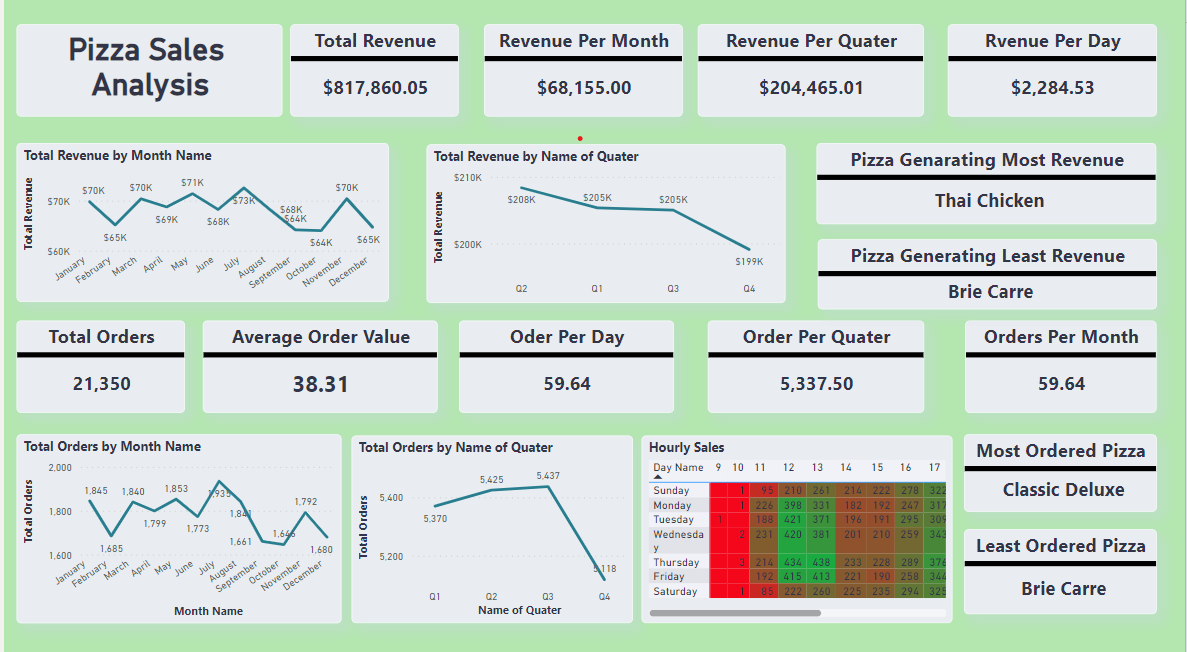

The dashboard page shown, as its layout file describes it:
{"tool":"powerbi","page":{"name":"Dashboard","canvas":[1280,720],"ordinal":0},"visuals":[{"type":"card","title":"Total Revenue","fields":{"Values":["order_details.Total Revenue"]},"box":[324.9,28.4,182.7,100.2],"z":0},{"type":"card","title":"Revenue Per Month ","fields":{"Values":["order_details.Revenue per month"]},"box":[519.8,28.4,215.2,100.2],"z":1000},{"type":"card","title":"Average Order Value ","fields":{"Values":["order_details.Average Order Value"]},"box":[224.7,349.2,254.5,100.2],"z":2000},{"type":"card","title":"Total Orders","fields":{"Values":["orders.Total Orders"]},"box":[13.5,349.2,182.7,100.2],"z":3000},{"type":"card","title":"Revenue Per Quater ","fields":{"Values":["order_details.Revenue Per Quater"]},"box":[762.1,28.4,245,100.2],"z":4000},{"type":"card","title":"Rvenue Per Day","fields":{"Values":["order_details.Revenue per day"]},"box":[1022,28.4,226.1,100.2],"z":5000},{"type":"card","title":"Oder Per Day","fields":{"Values":["order_details.order per day"]},"box":[502.2,349.2,232.8,100.2],"z":6000},{"type":"card","title":"Order Per Quater","fields":{"Values":["order_details.orders per quater"]},"box":[762.1,349.2,234.2,100.2],"z":7000},{"type":"card","title":"Orders Per Month","fields":{"Values":["order_details.order per day"]},"box":[1041,349.2,207.1,100.2],"z":8000},{"type":"lineChart","fields":{"Category":["orders.Month Name"],"Y":["order_details.Total Revenue"]},"box":[13.5,157,403.4,171.9],"z":9000},{"type":"card","title":"Pizza Genarating Most Revenue","fields":{"Values":["Min(pizza_types.name)"]},"box":[879.9,157,368.2,88],"z":10000},{"type":"card","title":"Pizza Generating Least Revenue","fields":{"Values":["Min(pizza_types.name)"]},"box":[881.2,261.3,366.8,75.8],"z":11000},{"type":"lineChart","fields":{"Category":["orders.Name of Quater"],"Y":["order_details.Total Revenue"]},"box":[457.5,158.4,388.5,171.9],"z":12000},{"type":"lineChart","fields":{"Category":["orders.Month Name"],"Y":["orders.Total Orders"]},"box":[13.5,472.4,351.9,204.4],"z":13000},{"type":"lineChart","fields":{"Y":["orders.Total Orders"],"Category":["orders.Name of Quater"]},"box":[376.3,473.8,304.6,203],"z":14000},{"type":"card","title":"Most Ordered Pizza","fields":{"Values":["Min(pizza_types.name)"]},"box":[1039.6,472.4,208.5,83.9],"z":15000},{"type":"card","title":"Least Ordered Pizza","fields":{"Values":["Min(pizza_types.name)"]},"box":[1039.6,575.3,208.5,92],"z":16000},{"type":"pivotTable","title":"Hourly Sales ","fields":{"Columns":["orders.Hour"],"Rows":["orders.Day Name"],"Values":["orders.Total Orders"]},"box":[690.4,473.8,337.1,203],"z":17000},{"type":"textbox","box":[13.5,28.4,288.3,100.2],"z":18000}]}

Visuals, with their boxes in screenshot pixels (x1, y1, x2, y2), scaled from the page's 1280x720 canvas onto the 1187x652 screenshot:
"Total Revenue" card: BBox(301, 26, 471, 116)
"Revenue Per Month " card: BBox(482, 26, 682, 116)
"Average Order Value " card: BBox(208, 316, 444, 407)
"Total Orders" card: BBox(13, 316, 182, 407)
"Revenue Per Quater " card: BBox(707, 26, 934, 116)
"Rvenue Per Day" card: BBox(948, 26, 1157, 116)
"Oder Per Day" card: BBox(466, 316, 682, 407)
"Order Per Quater" card: BBox(707, 316, 924, 407)
"Orders Per Month" card: BBox(965, 316, 1157, 407)
lineChart - orders.Month Name x order_details.Total Revenue: BBox(13, 142, 387, 298)
"Pizza Genarating Most Revenue" card: BBox(816, 142, 1157, 222)
"Pizza Generating Least Revenue" card: BBox(817, 237, 1157, 305)
lineChart - orders.Name of Quater x order_details.Total Revenue: BBox(424, 143, 785, 299)
lineChart - orders.Month Name x orders.Total Orders: BBox(13, 428, 339, 613)
lineChart - orders.Total Orders x orders.Name of Quater: BBox(349, 429, 631, 613)
"Most Ordered Pizza" card: BBox(964, 428, 1157, 504)
"Least Ordered Pizza" card: BBox(964, 521, 1157, 604)
"Hourly Sales " pivotTable: BBox(640, 429, 953, 613)
textbox: BBox(13, 26, 280, 116)
